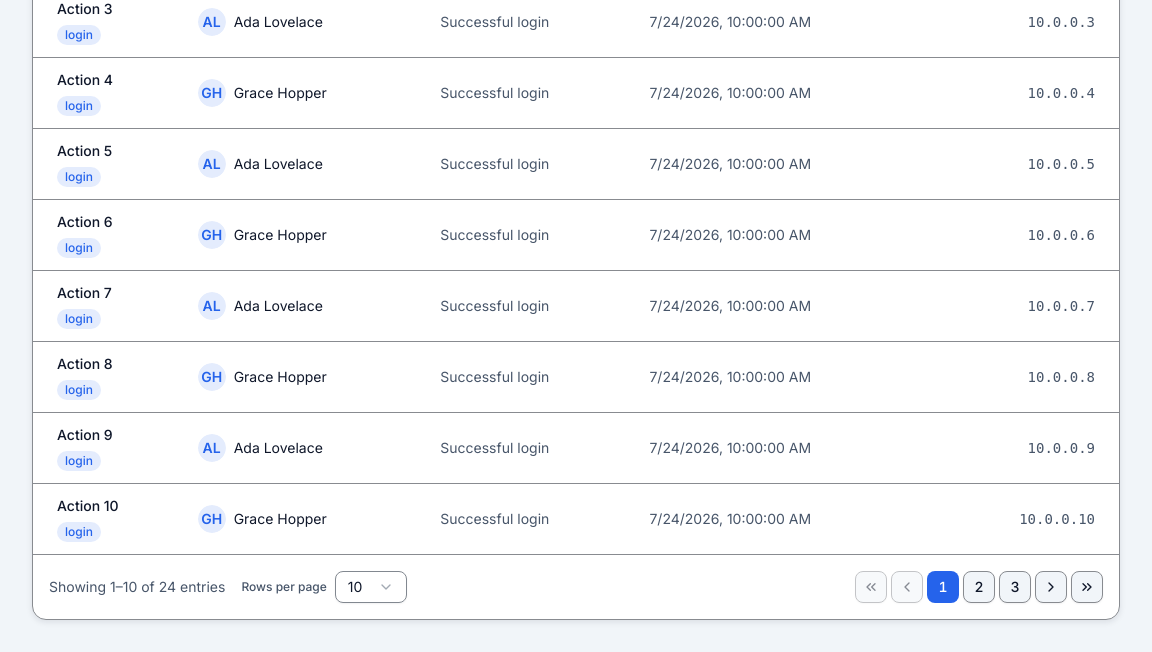
it: <ActivityLogClient> › moves to the page it is asked for
(page scrolled)
Click the button named "Go to page 3".
click(1015, 586)  # box [999,570,1031,602]
(page scrolled)
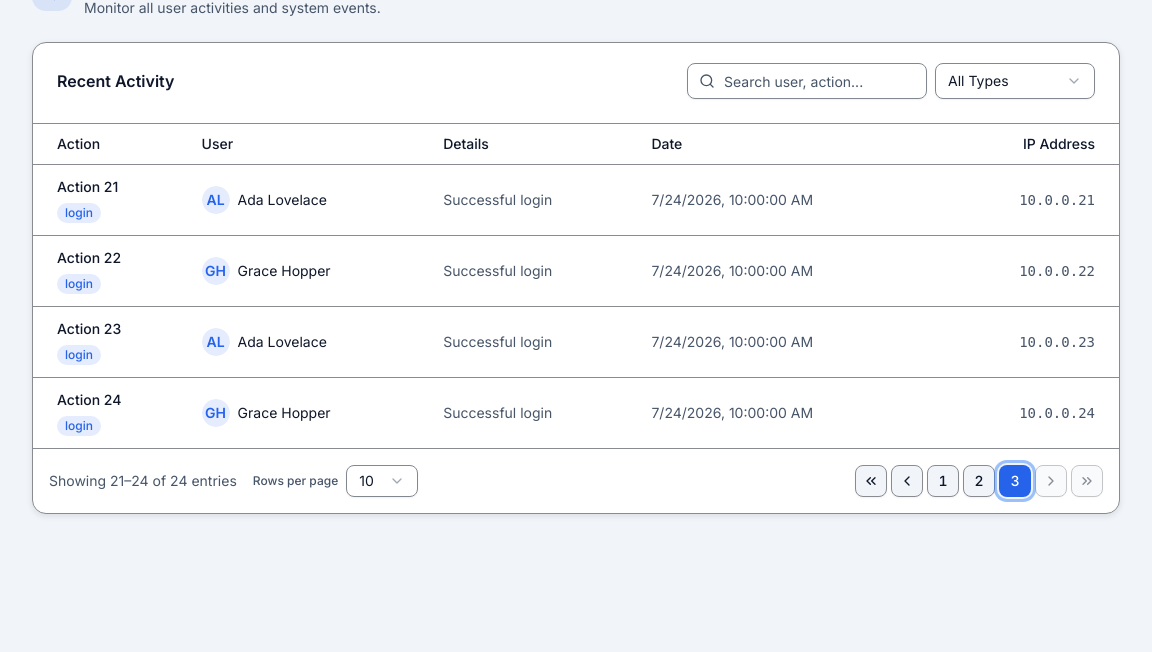
Now the text "Action 21" is shown, box [57,178,118,194]
Now the text "Action 1" is gone
